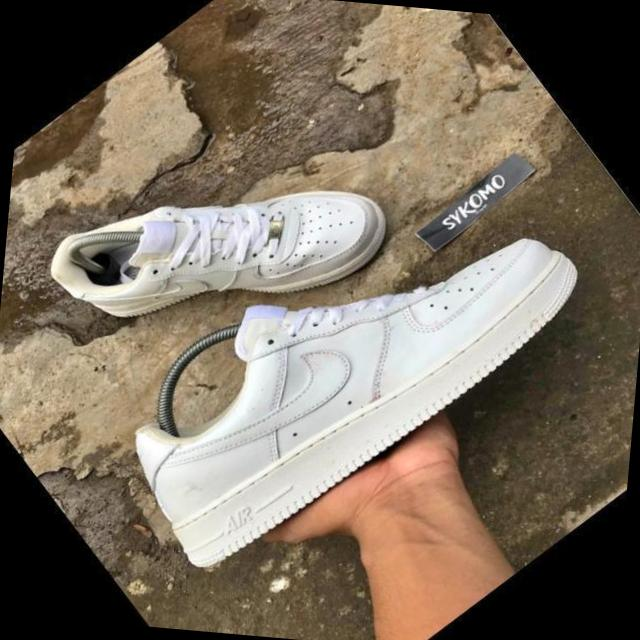nike_original_airforce: (71, 82, 633, 624), (22, 52, 416, 438)
